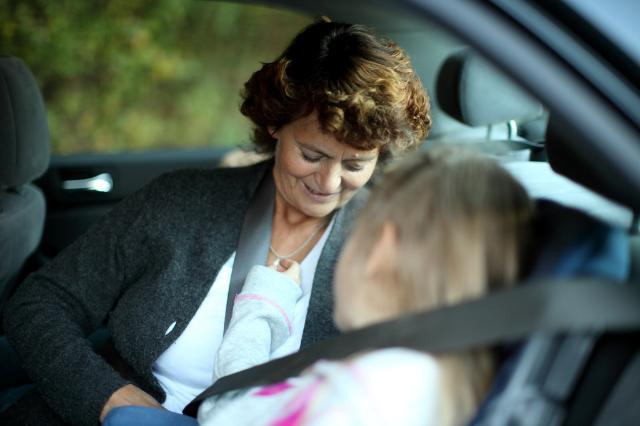Seatbelt: (183, 275, 639, 417)
